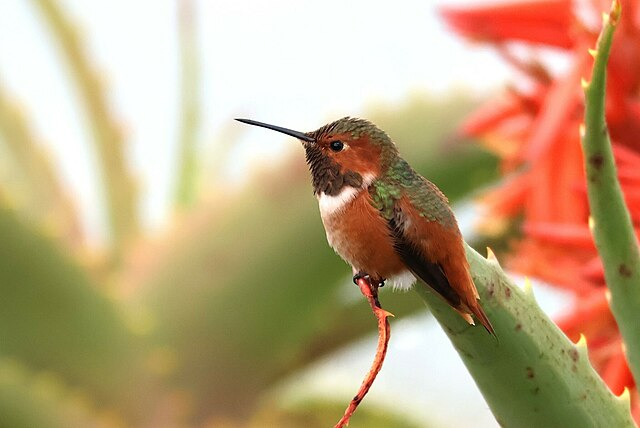selasphorus sasin: (230, 110, 497, 338)
